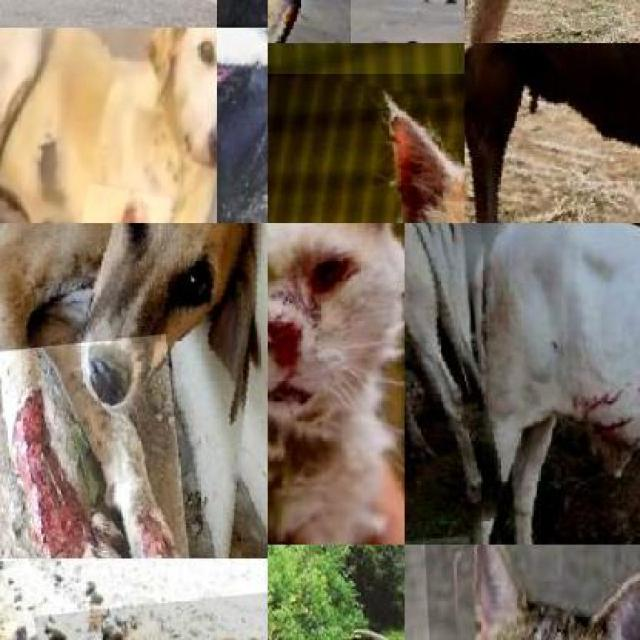buffalo: (464, 43, 640, 223)
cat: (268, 223, 404, 545), (268, 74, 464, 223)
cow: (447, 223, 640, 544), (404, 223, 496, 543)
dog: (0, 223, 268, 559), (0, 28, 217, 223), (32, 571, 268, 640)
injured: (0, 334, 194, 558), (268, 275, 315, 380), (66, 183, 169, 223), (217, 50, 257, 119)
